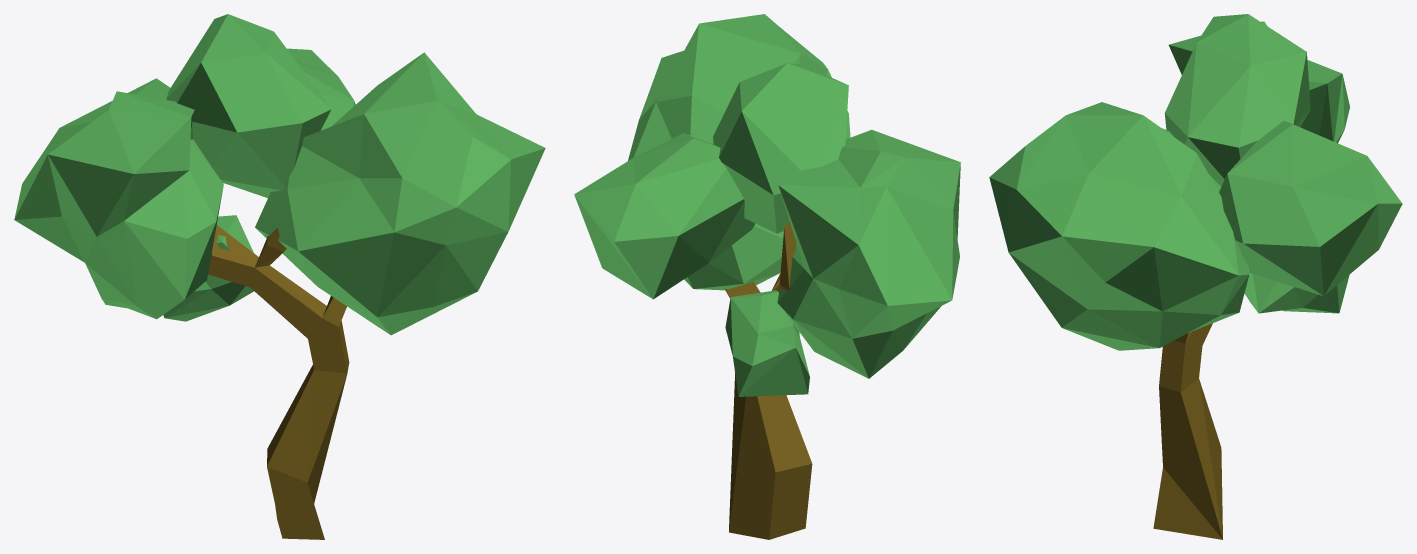
File: shu3.FBX
3 renders of one model, left to right at view 1: azimuth 30°, elevation 25°; view 2: azimuth 150°, elevation 25°; view 3: azimuth 270°, elevation 25°, orthographic. The views are drawn at different scales.
Parts seen in each view (by area): view 1: Object254, Line001; view 2: Object254, Line001; view 3: Object254, Line001.
Boxes of the visible parts, x1,y1,x2,y2 form: Object254: [14, 14, 545, 335]; Line001: [208, 225, 349, 539]; Object254: [574, 14, 960, 396]; Line001: [725, 222, 812, 539]; Object254: [989, 14, 1402, 350]; Line001: [1153, 323, 1222, 539].
Bounding box in the file's own units: 2.7 × 3.14 × 2.4.
